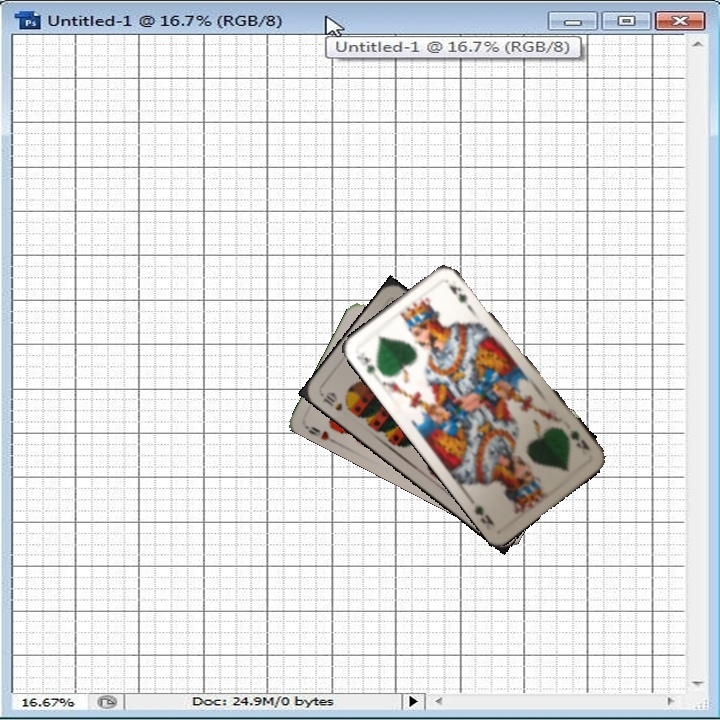GK: (566, 425, 592, 453), (353, 348, 378, 377)
H9: (302, 422, 340, 447)
S10: (319, 388, 345, 414)
